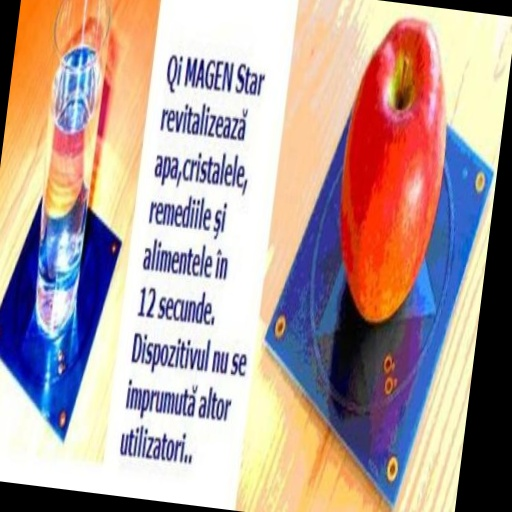fruit: (340, 20, 446, 322)
